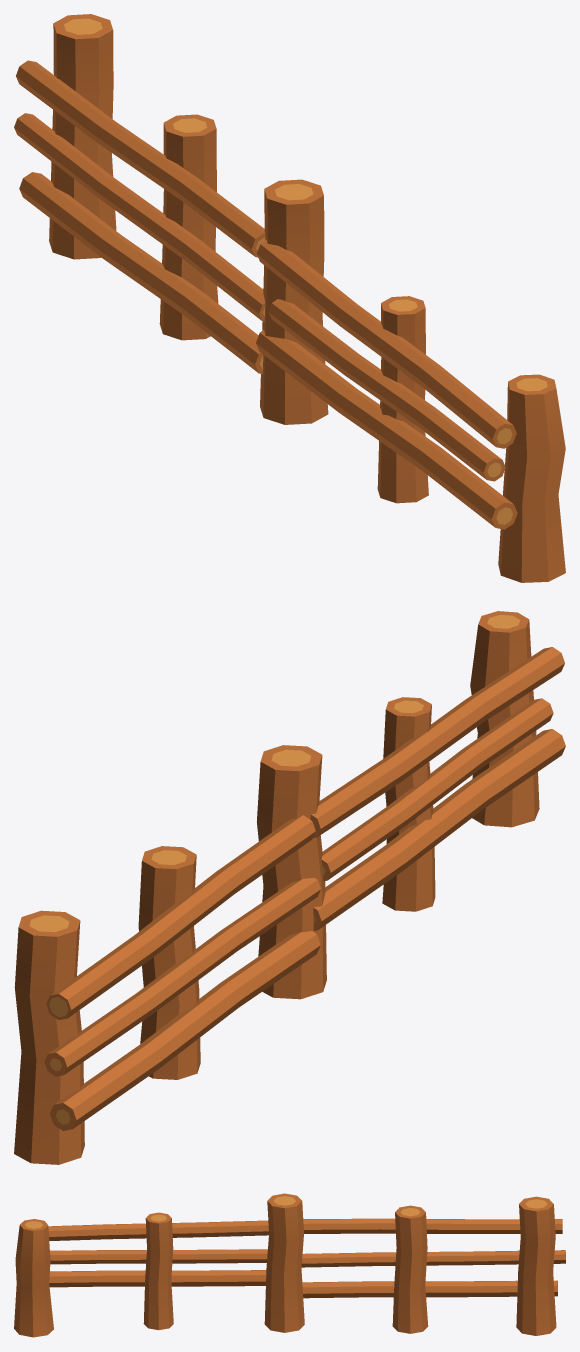
The model's file is fence.fbx.
The picture shows the model from 3 angles, top to bottom: view 1: azimuth 30°, elevation 25°; view 2: azimuth 150°, elevation 25°; view 3: azimuth 270°, elevation 25°; orthographic projection. The views are drawn at different scales.
Visible parts, largest first — view 1: Cylinder.002; view 2: Cylinder.002; view 3: Cylinder.002.
Part boxes in pixels (<box>): Cylinder.002: <box>14,14,565,582</box>; Cylinder.002: <box>14,611,565,1164</box>; Cylinder.002: <box>14,1193,565,1337</box>.
Bounding box in the file's own units: 59.74 × 616 × 152.
